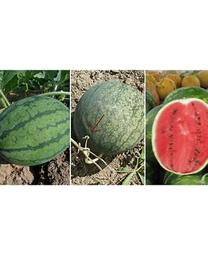watermelon: (147, 92, 207, 176), (1, 96, 71, 166), (75, 80, 143, 152)
